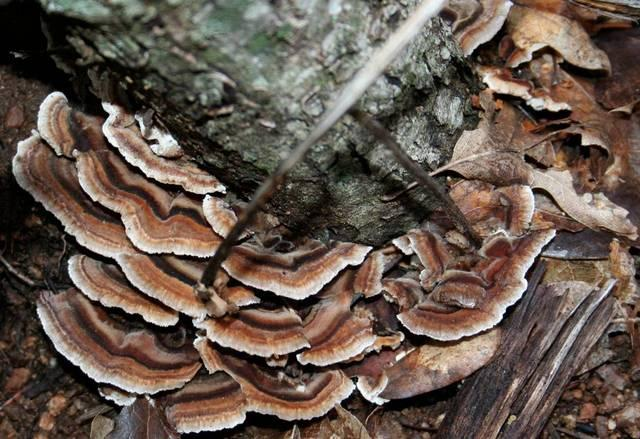Non-edible Mushroom: (11, 88, 557, 434)
